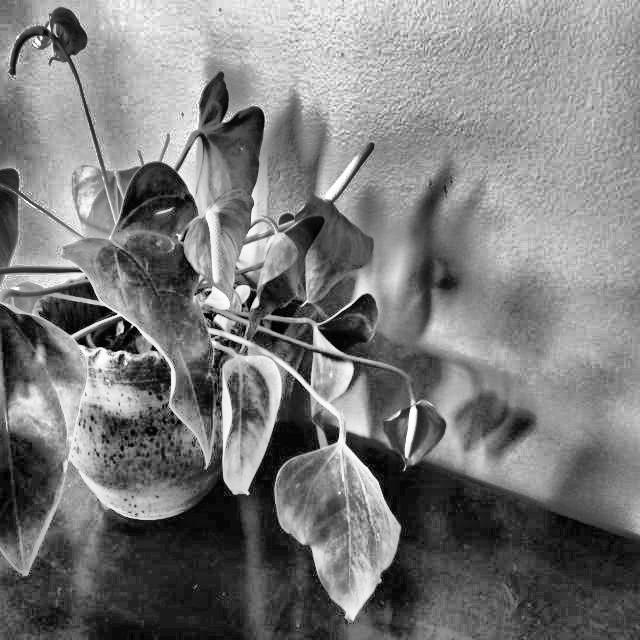plants: (0, 3, 477, 640), (7, 8, 132, 225), (288, 389, 400, 628), (210, 326, 276, 499), (240, 197, 322, 324)
